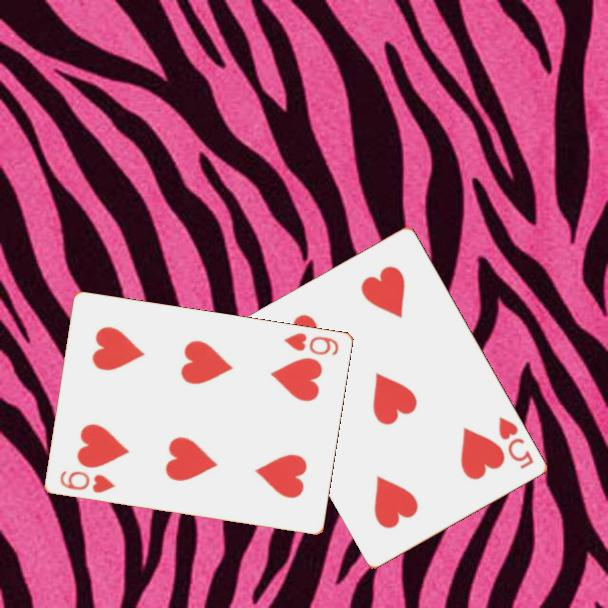h05: (495, 413, 537, 472)
h06: (56, 467, 118, 496), (280, 330, 341, 359)
